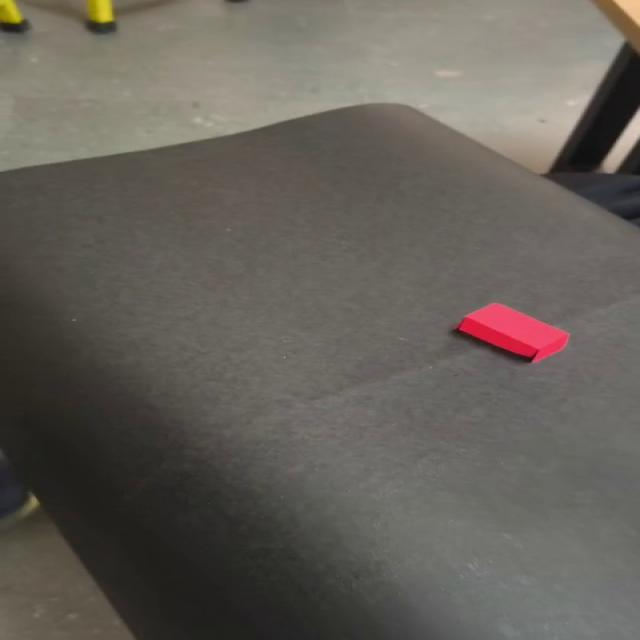red block: (455, 301, 569, 363)
